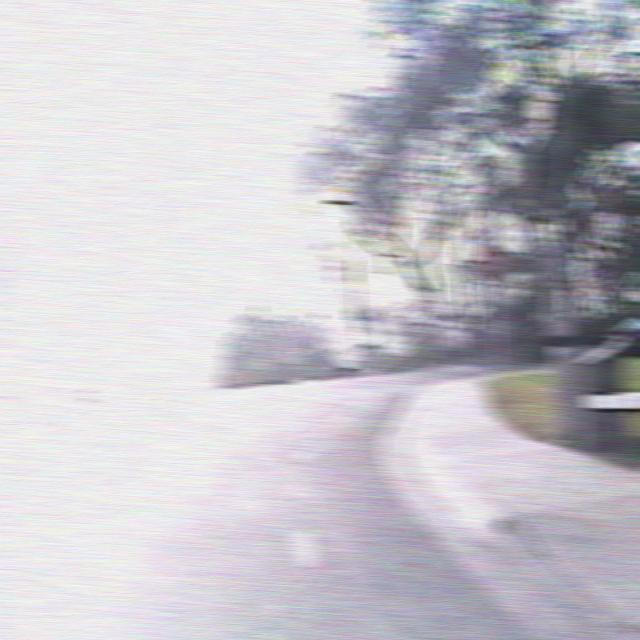stop: (476, 240, 510, 281)
